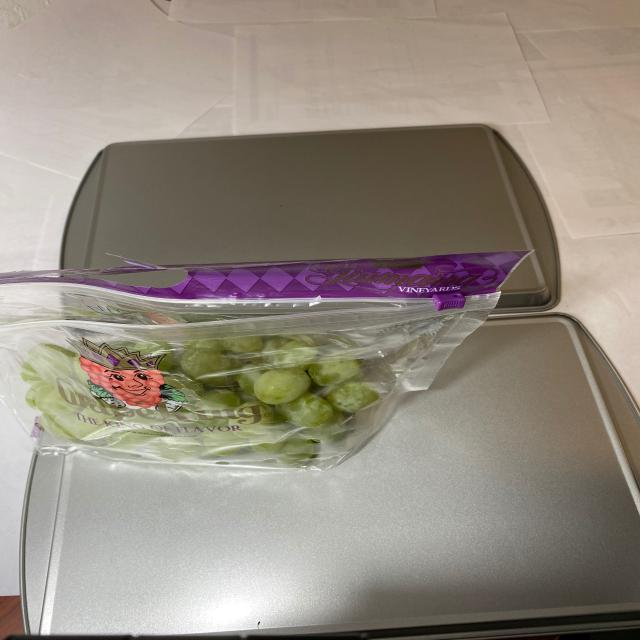grapes: (22, 330, 423, 460)
